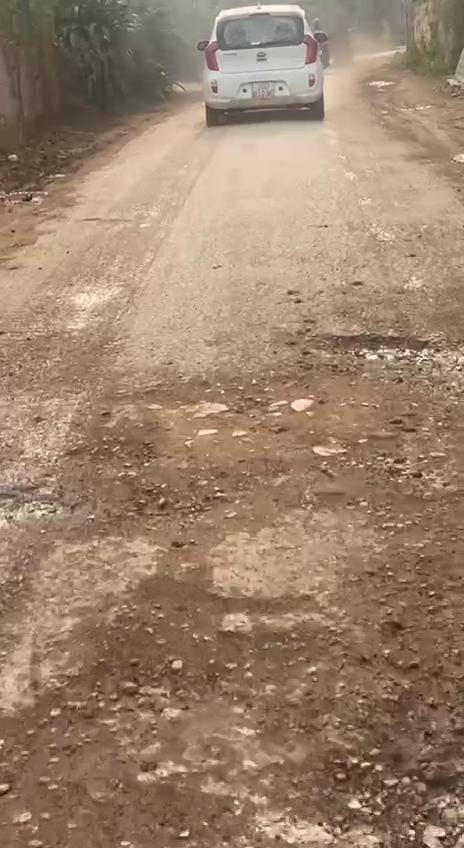pothole: (0, 583, 263, 848), (82, 431, 224, 548), (292, 316, 462, 396)
